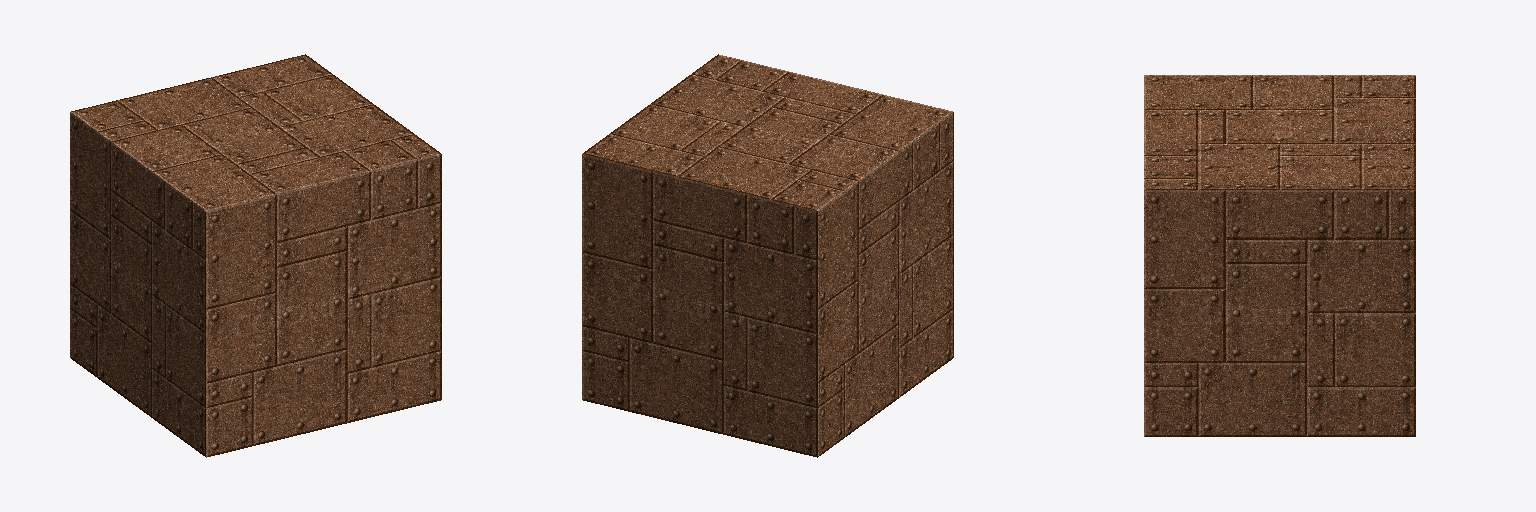
3 views of the same model, side by side, from view 1: azimuth 30°, elevation 25°; view 2: azimuth 150°, elevation 25°; view 3: azimuth 270°, elevation 25° (orthographic).
Visible parts, largest first — view 1: Box001; view 2: Box001; view 3: Box001.
Part boxes in pixels (x1,y1,x2,y2): Box001: (70,54,441,457); Box001: (582,54,953,457); Box001: (1144,75,1415,436).
Bounding box in the file's own units: 1 × 1 × 1.
Materials: 1 (1 with a texture image).